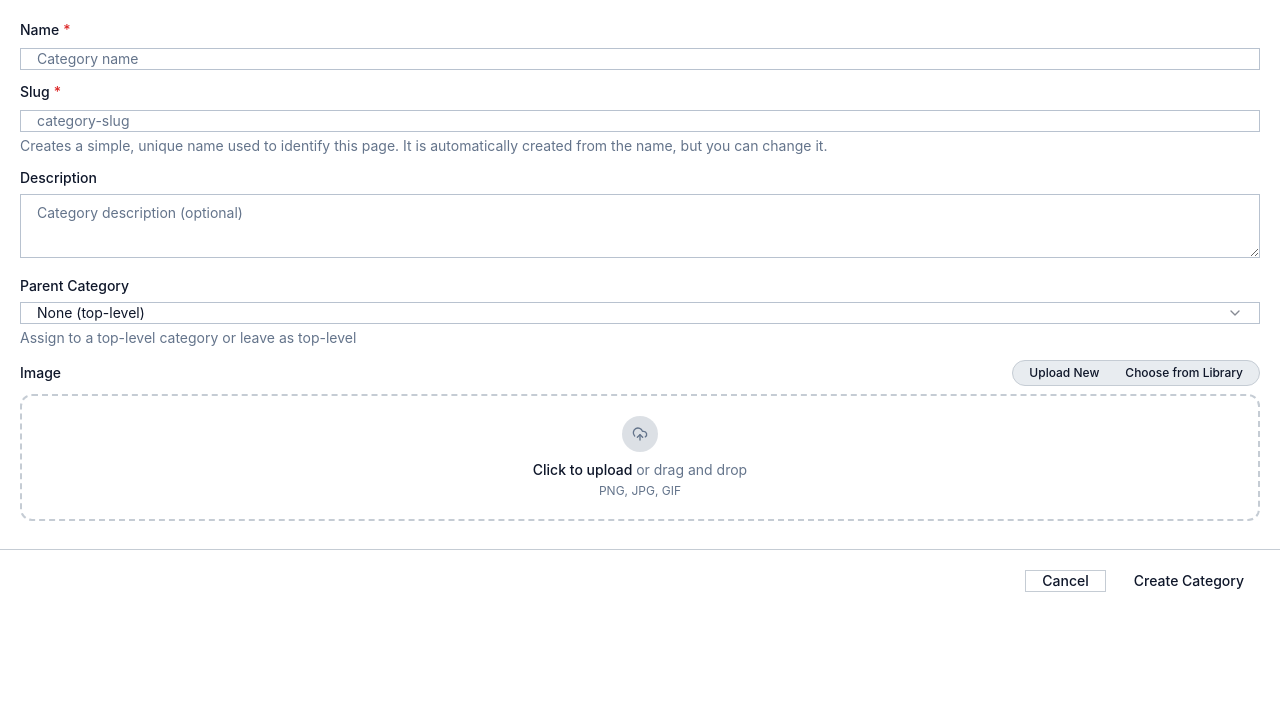
CategoryForm parent picker (searchable) › filters options as the user types in the search input
This screenshot has width=1280, height=720.
Click the button named "Parent Category": [91, 312] box [20,302,1260,324]
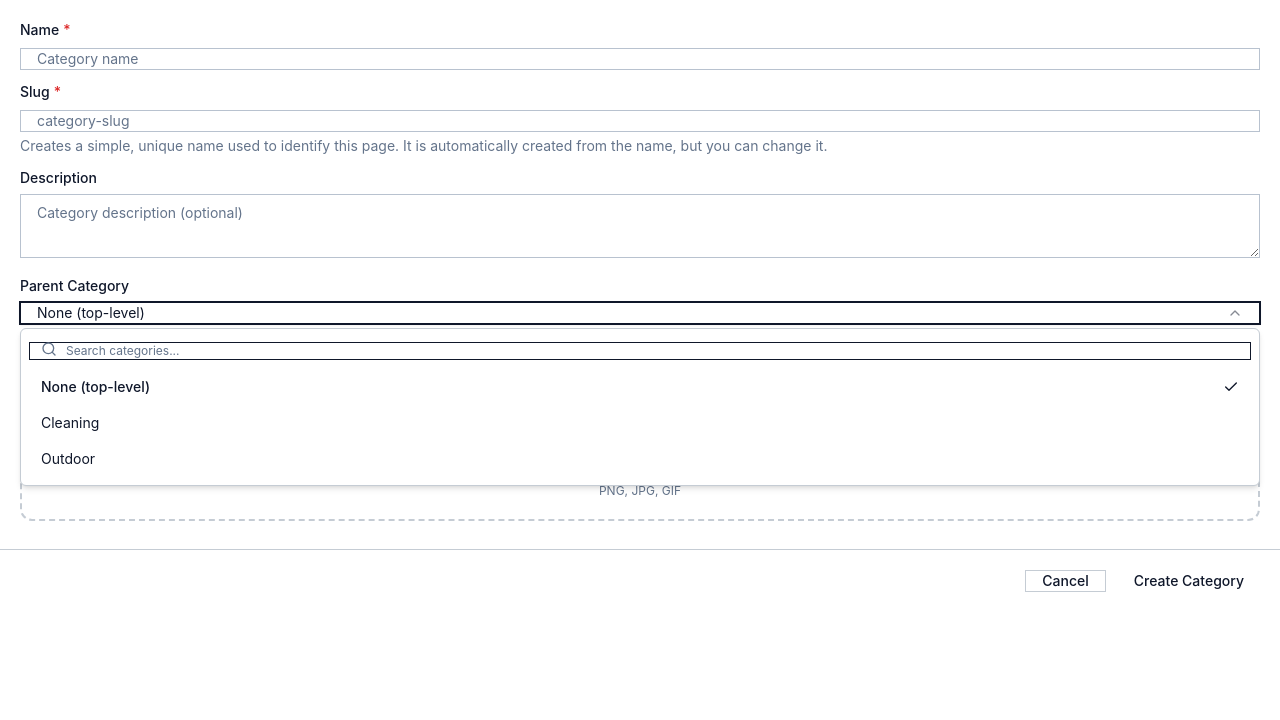
In the field with placeholder "Search categories...": [640, 351] box [29,342,1251,360], type "out"
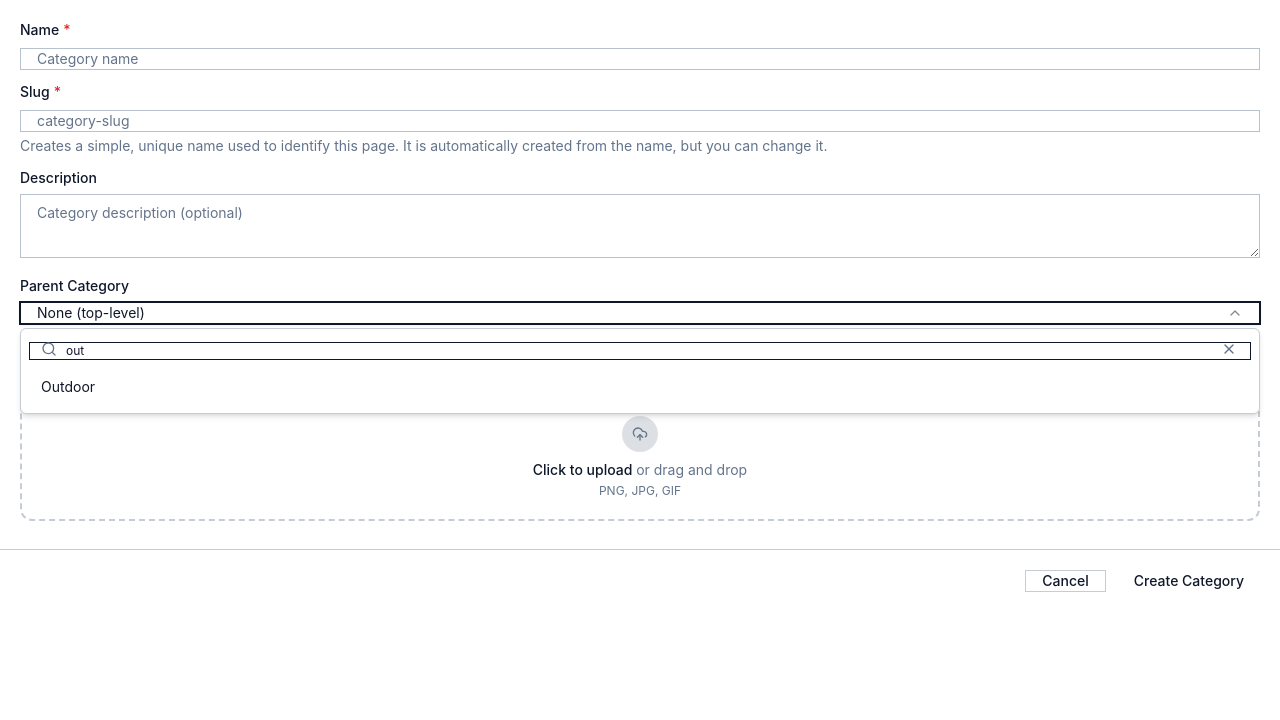
Expected: the options read "Outdoor", in this order, [41,378,95,395]
